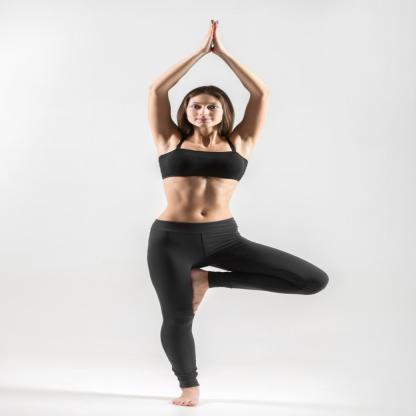tree: (128, 10, 340, 416)
